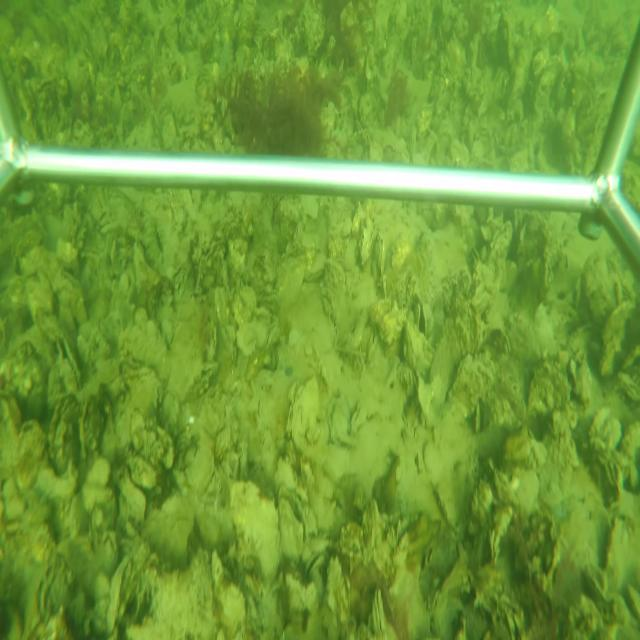Oyster-Closed: (430, 550, 466, 633), (286, 378, 322, 452), (47, 392, 77, 470), (106, 555, 132, 637), (279, 491, 308, 563), (303, 543, 332, 578), (359, 217, 373, 268)
Oyster-Indeterminate: (230, 480, 281, 581)
Oyster-Open: (57, 335, 81, 390), (413, 300, 428, 340)
